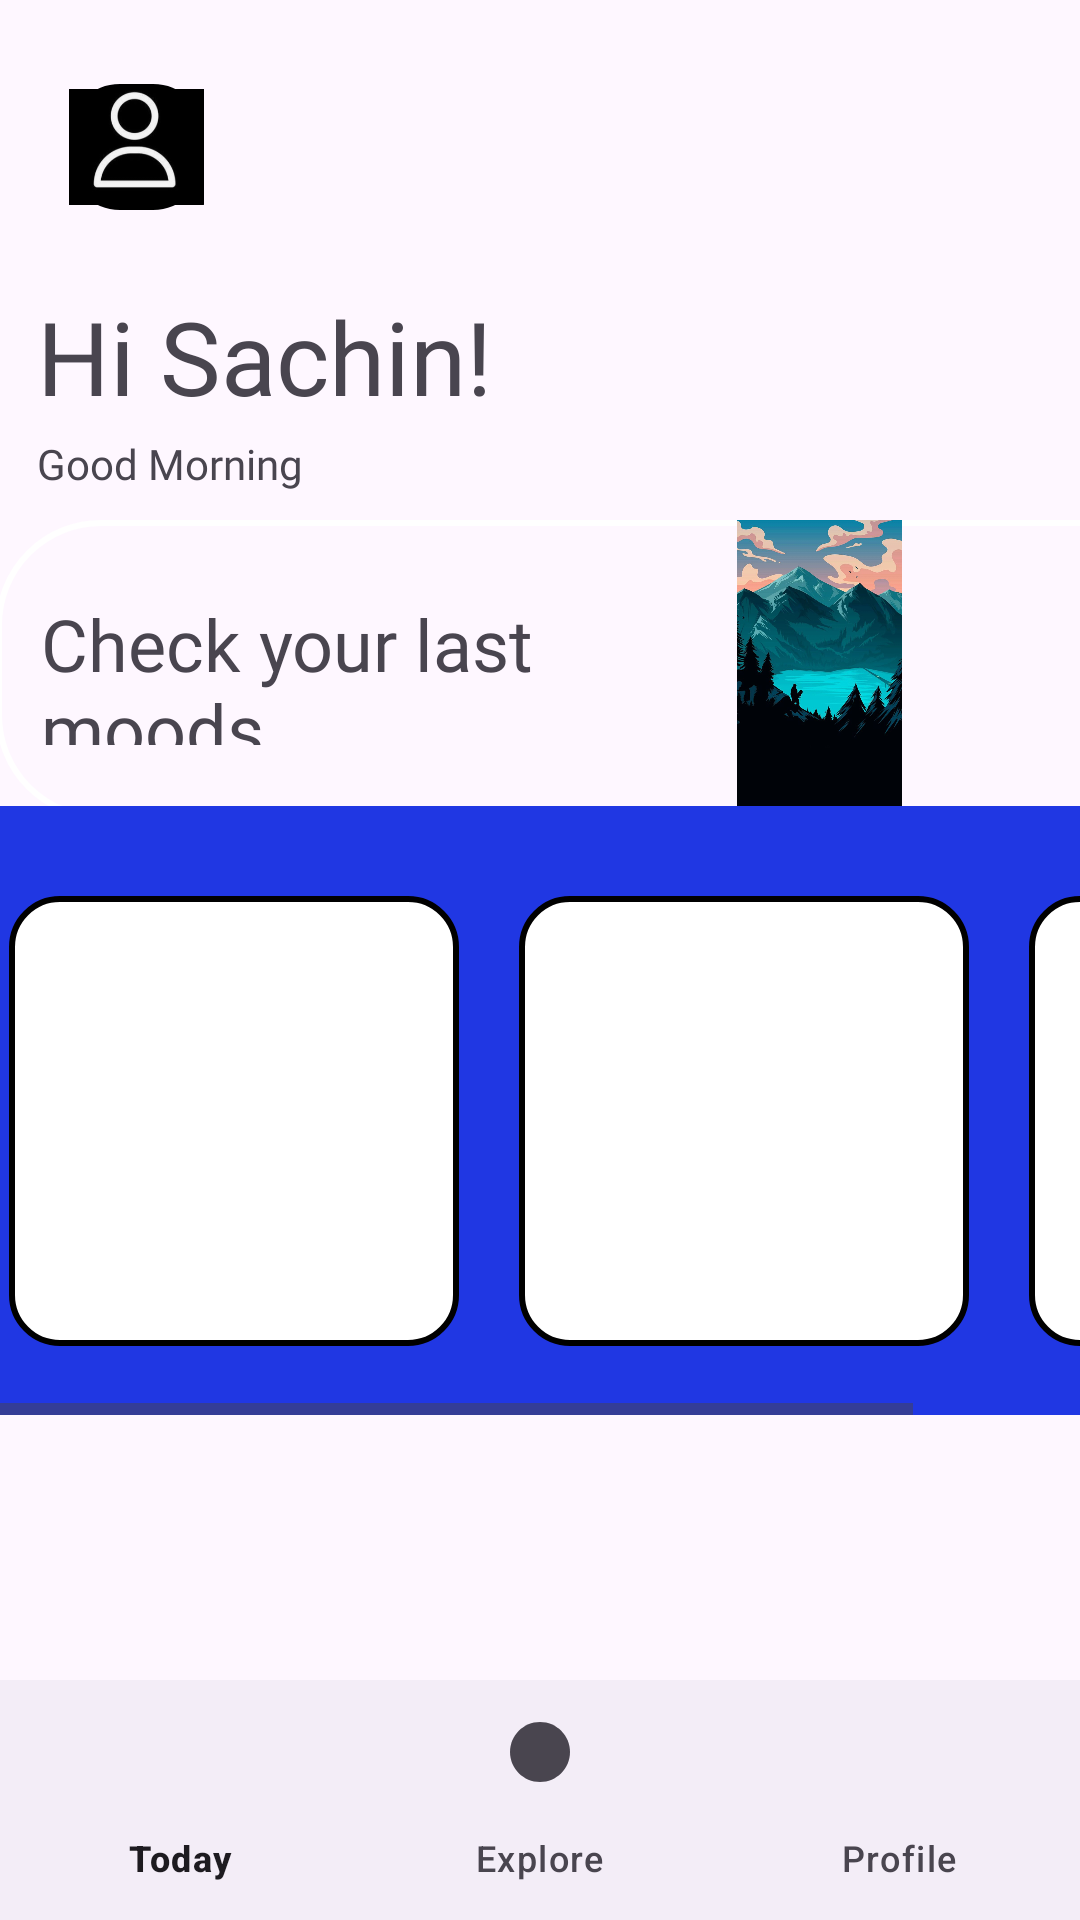

Icons on this 1080*1920 Android screen, each with its box as [x1,y1,x2,y2]:
profile: [69,84,204,210]
